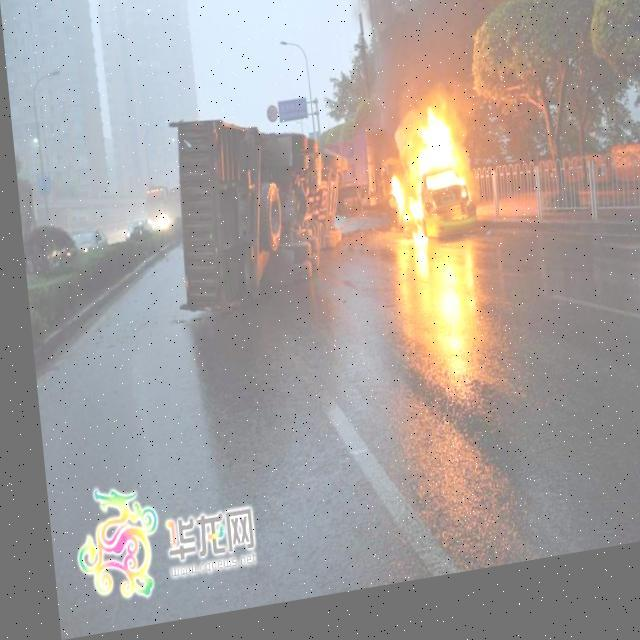Fire: (379, 112, 472, 262)
